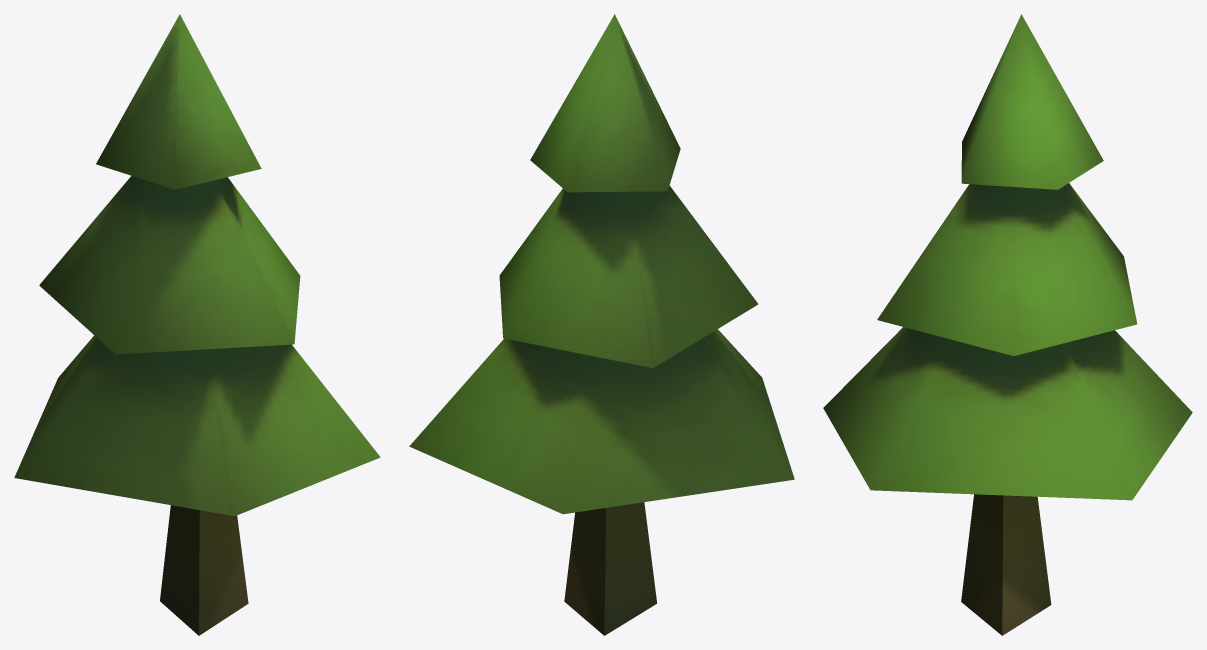
File: Sce_worldmap_tree_b05.FBX
The picture shows the model from 3 angles, left to right: view 1: azimuth 30°, elevation 25°; view 2: azimuth 150°, elevation 25°; view 3: azimuth 270°, elevation 25°; orthographic projection. The views are drawn at different scales.
Parts seen in each view (by area): view 1: polySurface8; view 2: polySurface8; view 3: polySurface8.
Boxes of the visible parts, x1=… form: polySurface8: x1=14, y1=14, x2=380, y2=635; polySurface8: x1=409, y1=14, x2=794, y2=635; polySurface8: x1=823, y1=14, x2=1192, y2=635.
Size of the model in its own units: 27.26 by 49.11 by 27.73.
